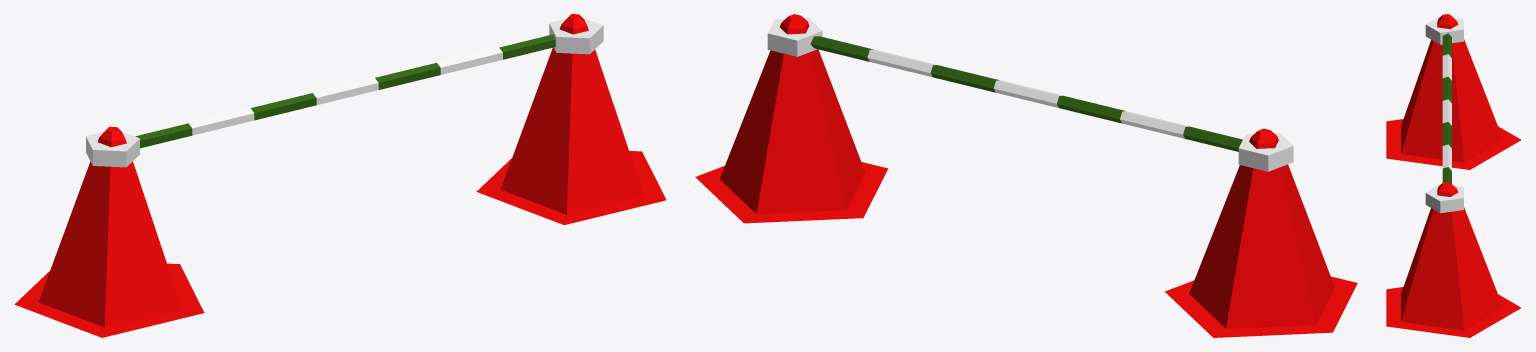
Rendered from fence.fbx.
3 renders of one model, left to right at view 1: azimuth 30°, elevation 25°; view 2: azimuth 150°, elevation 25°; view 3: azimuth 270°, elevation 25°, orthographic. The views are drawn at different scales.
Visible parts, largest first — view 1: 円柱.001, 円柱; view 2: 円柱.001, 円柱; view 3: 円柱.001, 円柱.
Part boxes in pixels (box(x1,y1,x2,y2)): 円柱.001: box(14, 14, 666, 337); 円柱: box(135, 34, 555, 148); 円柱.001: box(695, 14, 1357, 337); 円柱: box(810, 36, 1242, 151); 円柱.001: box(1386, 14, 1521, 337); 円柱: box(1442, 33, 1451, 183).
Size of the model in its own units: 318 by 80.57 by 79.76.
